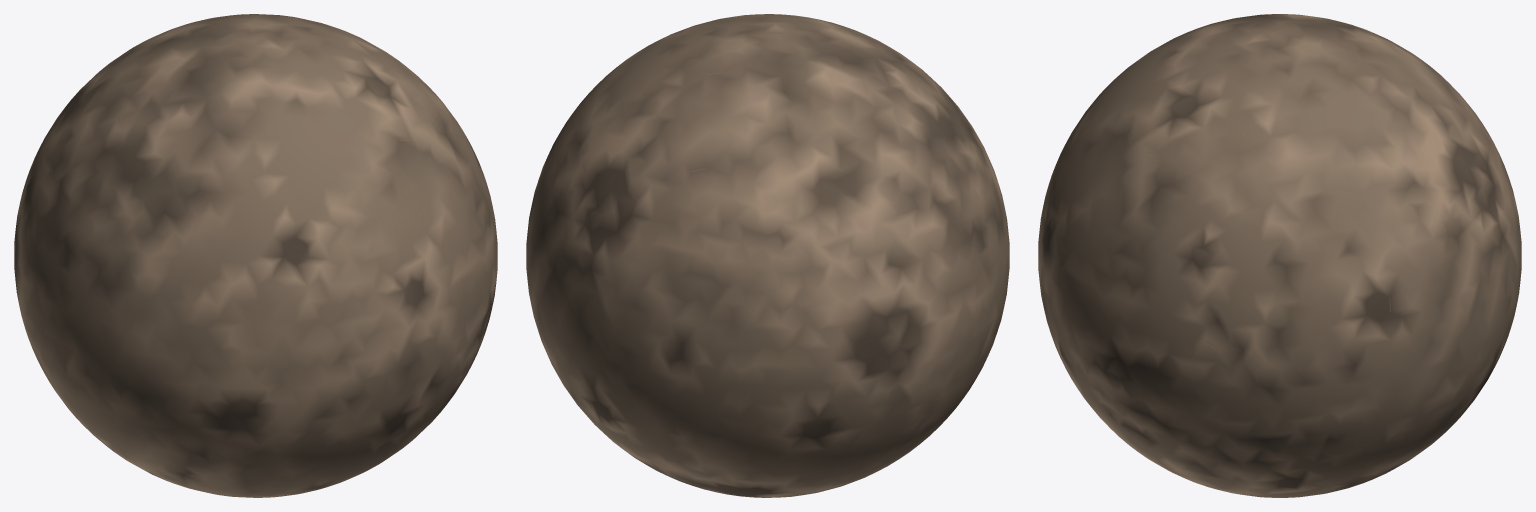
The model's file is planet_hot_selena.fbx.
3 renders of one model, left to right at view 1: azimuth 30°, elevation 25°; view 2: azimuth 150°, elevation 25°; view 3: azimuth 270°, elevation 25°, orthographic.
Parts seen in each view (by area): view 1: planet_hot_selena; view 2: planet_hot_selena; view 3: planet_hot_selena.
Boxes of the visible parts, <box> form: planet_hot_selena: <box>14,14,497,497</box>; planet_hot_selena: <box>526,14,1009,497</box>; planet_hot_selena: <box>1038,14,1521,497</box>.
Bounding box in the file's own units: 184 × 184 × 184.
